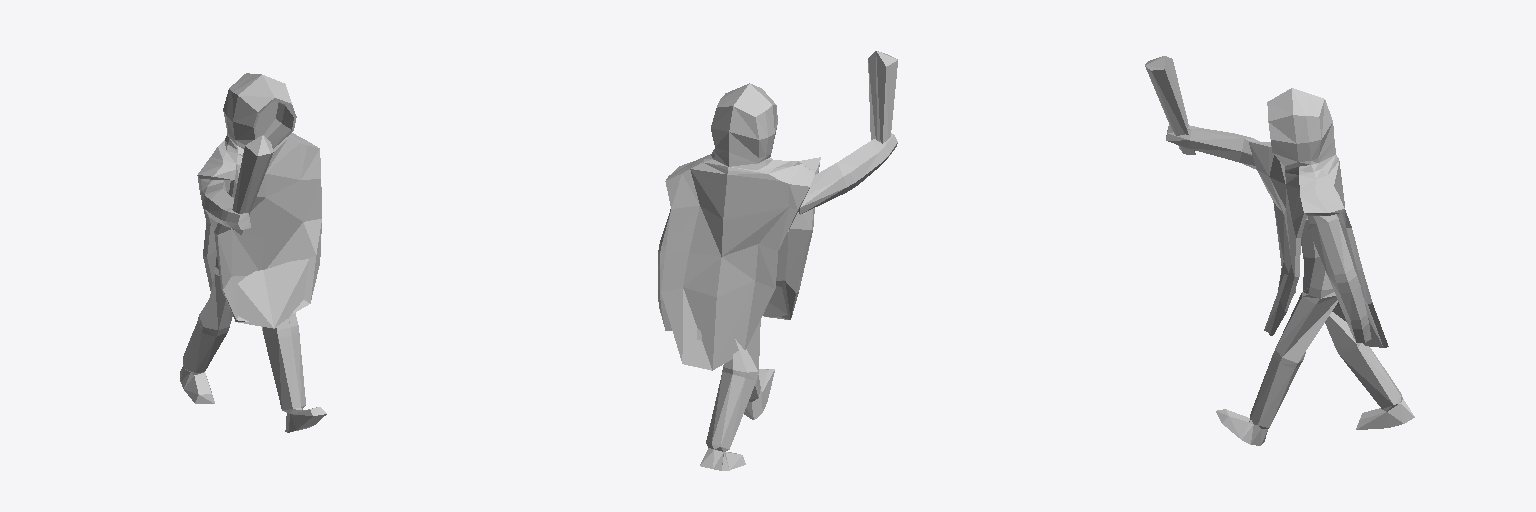
The model's file is Dude_Walk3.obj.
The picture shows the model from 3 angles: view 1: azimuth 30°, elevation 25°; view 2: azimuth 150°, elevation 25°; view 3: azimuth 270°, elevation 25°; orthographic projection.
Parts seen in each view (by area): view 1: Dude.HOOD_Cube.001, Dude.BOD_Cube, Cube_Cube.002; view 2: Dude.HOOD_Cube.001, Dude.BOD_Cube, Cube_Cube.002; view 3: Dude.BOD_Cube, Dude.HOOD_Cube.001, Cube_Cube.002.
Boxes of the visible parts, box(x1,y1,x2,y2) form: Dude.HOOD_Cube.001: box(197, 73, 321, 328); Dude.BOD_Cube: box(180, 180, 326, 432); Cube_Cube.002: box(231, 135, 273, 234); Dude.HOOD_Cube.001: box(661, 83, 820, 370); Dude.BOD_Cube: box(658, 133, 897, 470); Cube_Cube.002: box(868, 51, 897, 157); Dude.BOD_Cube: box(1166, 125, 1414, 445); Dude.HOOD_Cube.001: box(1249, 88, 1388, 347); Cube_Cube.002: box(1145, 56, 1195, 154).
Bounding box in the file's own units: 2.55 × 5.61 × 3.92.